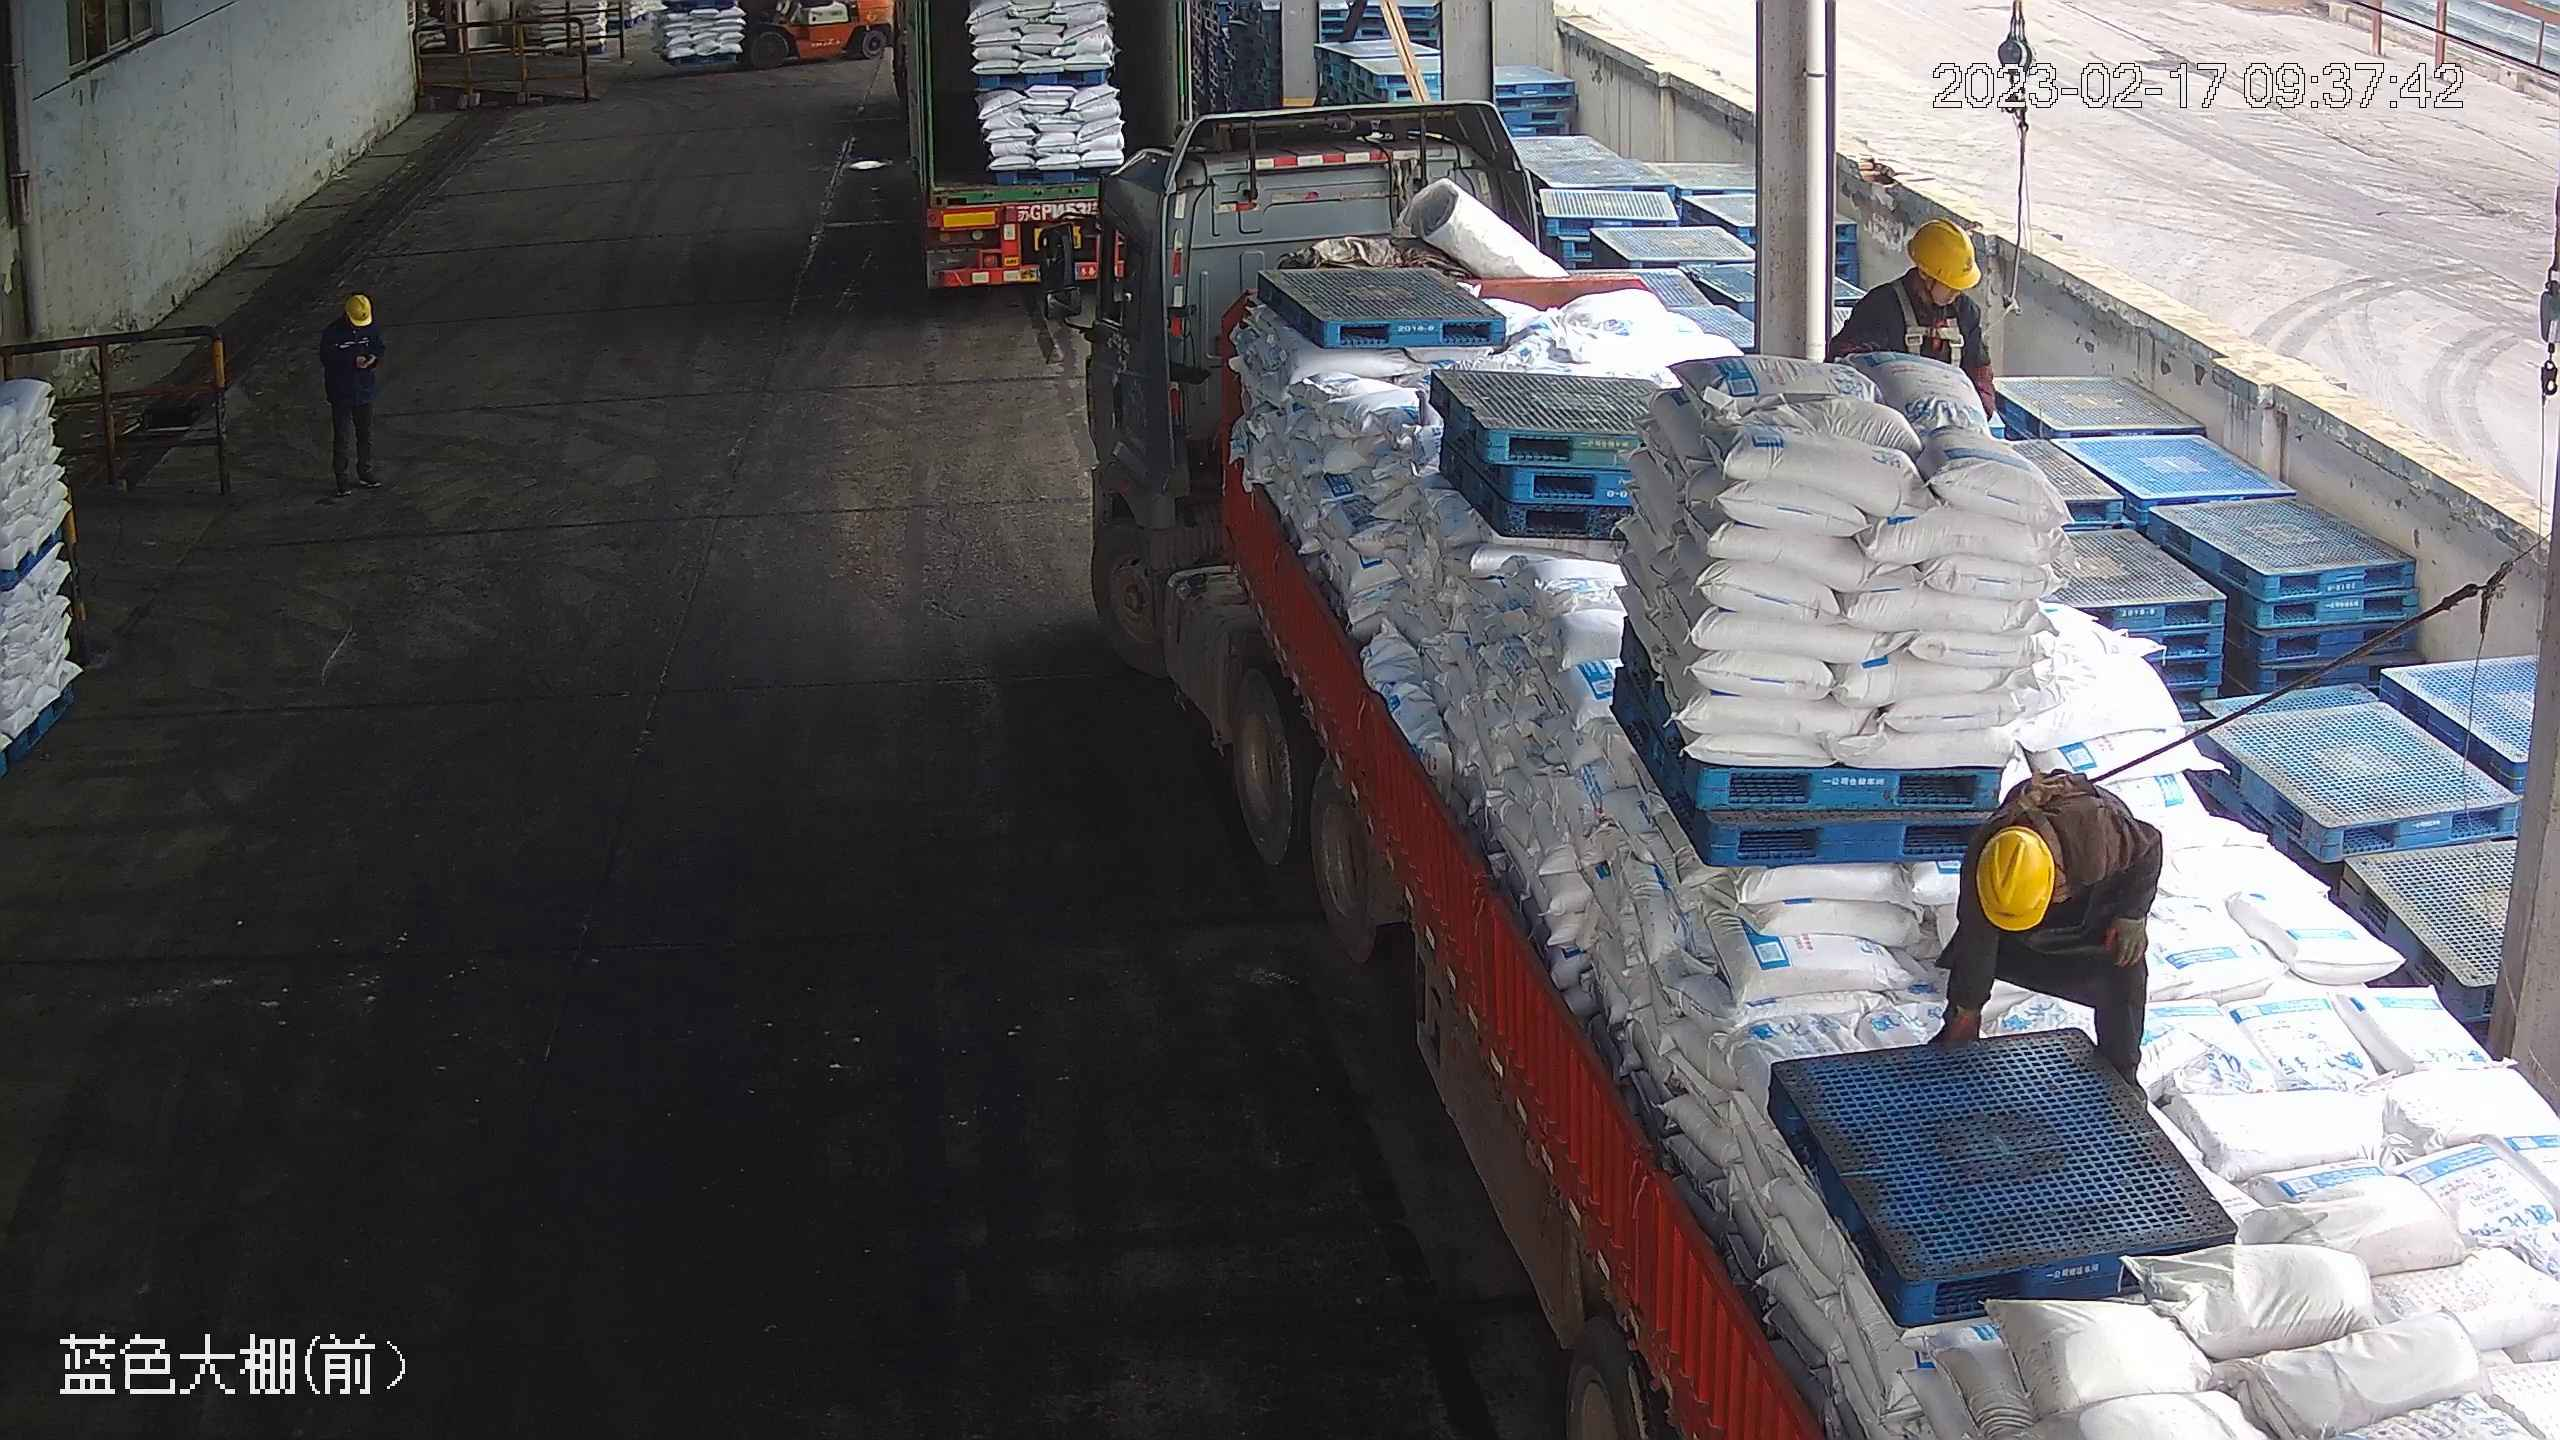belt: (1988, 736, 2097, 878), (1894, 279, 1961, 360)
head: (1955, 782, 2125, 948), (1847, 211, 1983, 345), (319, 291, 385, 351)
helmet: (1965, 827, 2058, 934), (1906, 212, 1984, 288), (342, 291, 375, 323)
people: (1938, 768, 2170, 1097), (317, 291, 388, 494)
truck: (1040, 98, 2553, 1440), (890, 1, 1190, 294)
